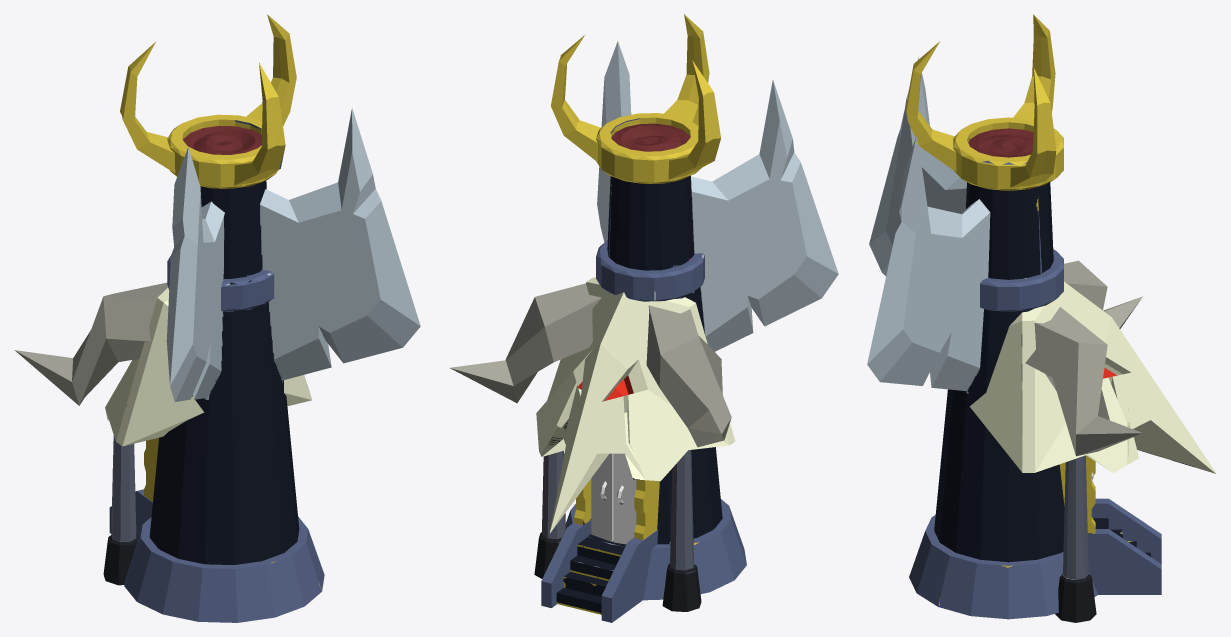
The model's file is BoosCastle_210330.fbx.
The picture shows the model from 3 angles, left to right: view 1: azimuth 30°, elevation 25°; view 2: azimuth 150°, elevation 25°; view 3: azimuth 270°, elevation 25°; orthographic projection. The views are drawn at different scales.
Visible parts, largest first — view 1: 1_Main, 2_Skull; view 2: 1_Main, 2_Skull, Door, Door.001; view 3: 1_Main, 2_Skull.
Boxes of the visible parts, <box> form: 1_Main: <box>109,14,420,622</box>; 2_Skull: <box>14,282,312,585</box>; 1_Main: <box>541,14,838,622</box>; 2_Skull: <box>450,277,734,611</box>; Door: <box>613,453,636,544</box>; Door.001: <box>591,453,613,541</box>; 1_Main: <box>867,14,1161,619</box>; 2_Skull: <box>969,260,1216,622</box>.
Bounding box in the file's own units: 2334 × 4307 × 2522.
Materials: 2 (2 with a texture image).
